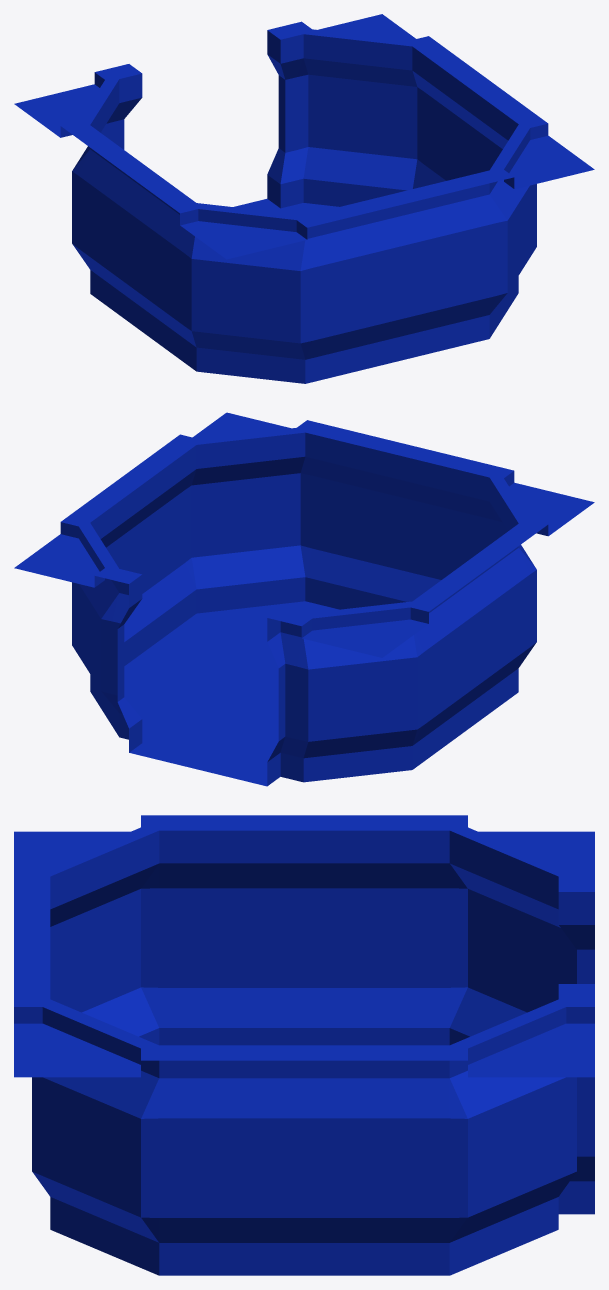
The model's file is 1x1_DeadEnd.FBX.
The picture shows the model from 3 angles, top to bottom: view 1: azimuth 30°, elevation 25°; view 2: azimuth 150°, elevation 25°; view 3: azimuth 270°, elevation 25°; orthographic projection. The views are drawn at different scales.
Visible parts, largest first — view 1: 1x1_DeadEnd; view 2: 1x1_DeadEnd; view 3: 1x1_DeadEnd.
Part boxes in pixels (bbox=[...]): 1x1_DeadEnd: bbox=[14, 14, 594, 383]; 1x1_DeadEnd: bbox=[14, 412, 594, 786]; 1x1_DeadEnd: bbox=[14, 815, 594, 1275].
Size of what is drawn, in the model's own units: 315 by 138 by 315.
